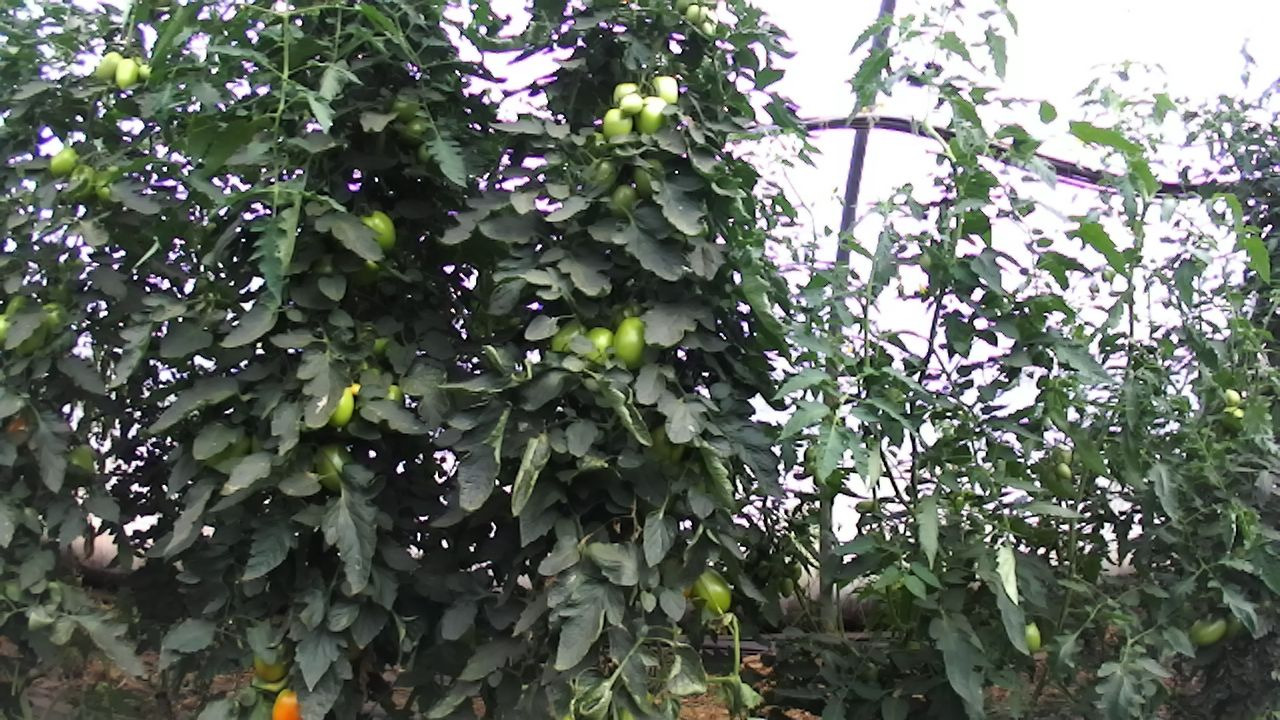tomato: (356, 205, 399, 254), (692, 569, 734, 615), (612, 316, 647, 368), (633, 94, 670, 135), (1188, 613, 1229, 648), (602, 106, 636, 142), (602, 107, 634, 144), (269, 686, 303, 720), (48, 145, 80, 179), (115, 59, 139, 90), (1021, 622, 1043, 654), (617, 91, 644, 117), (69, 164, 93, 191), (94, 53, 117, 81), (94, 173, 116, 200), (780, 576, 795, 598)
